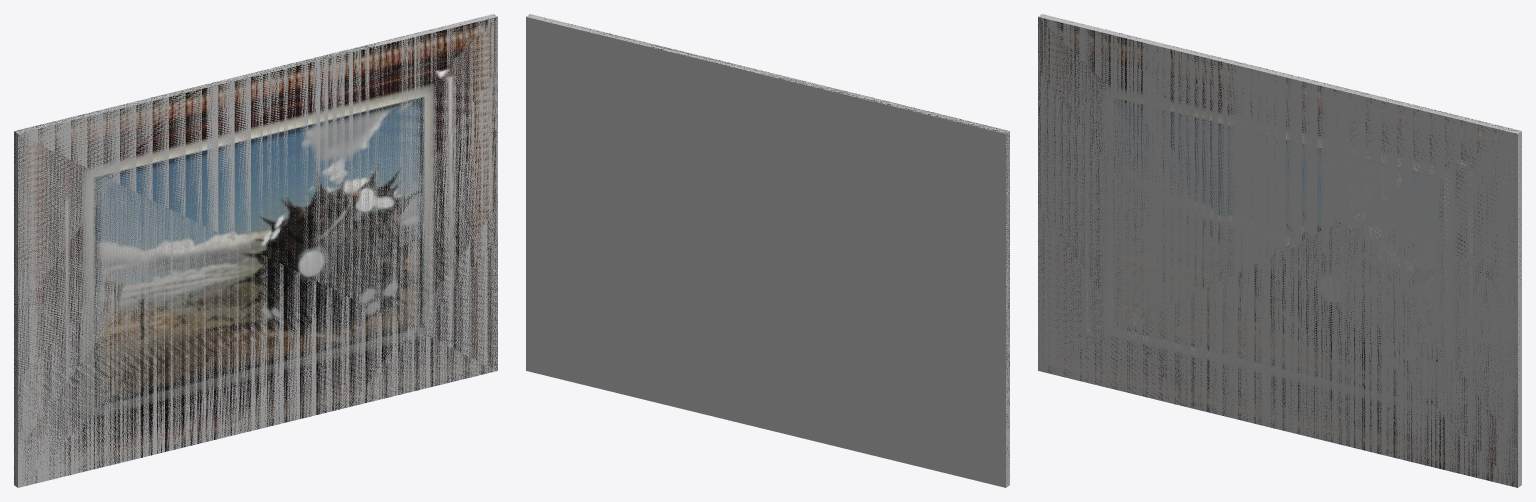
Rendered from painting_06.DAE.
3 views of the same model, side by side, from view 1: azimuth 30°, elevation 25°; view 2: azimuth 150°, elevation 25°; view 3: azimuth 330°, elevation 25° (orthographic).
Parts seen in each view (by area): view 1: bounds, painting_six100; view 2: bounds, painting_six100; view 3: bounds, painting_six100.
Boxes of the visible parts, x1=… form: bounds: x1=14, y1=14, x2=497, y2=487; painting_six100: x1=14, y1=15, x2=497, y2=485; bounds: x1=526, y1=14, x2=1009, y2=487; painting_six100: x1=545, y1=19, x2=1009, y2=462; bounds: x1=1038, y1=14, x2=1521, y2=487; painting_six100: x1=1038, y1=17, x2=1520, y2=487.
Bounding box in the file's own units: 105 × 1.5 × 74.3.
